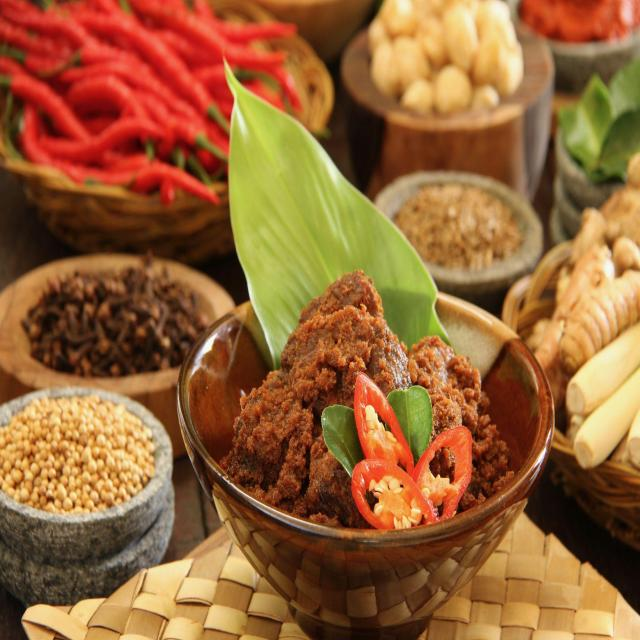Rendang: (234, 276, 513, 544)
